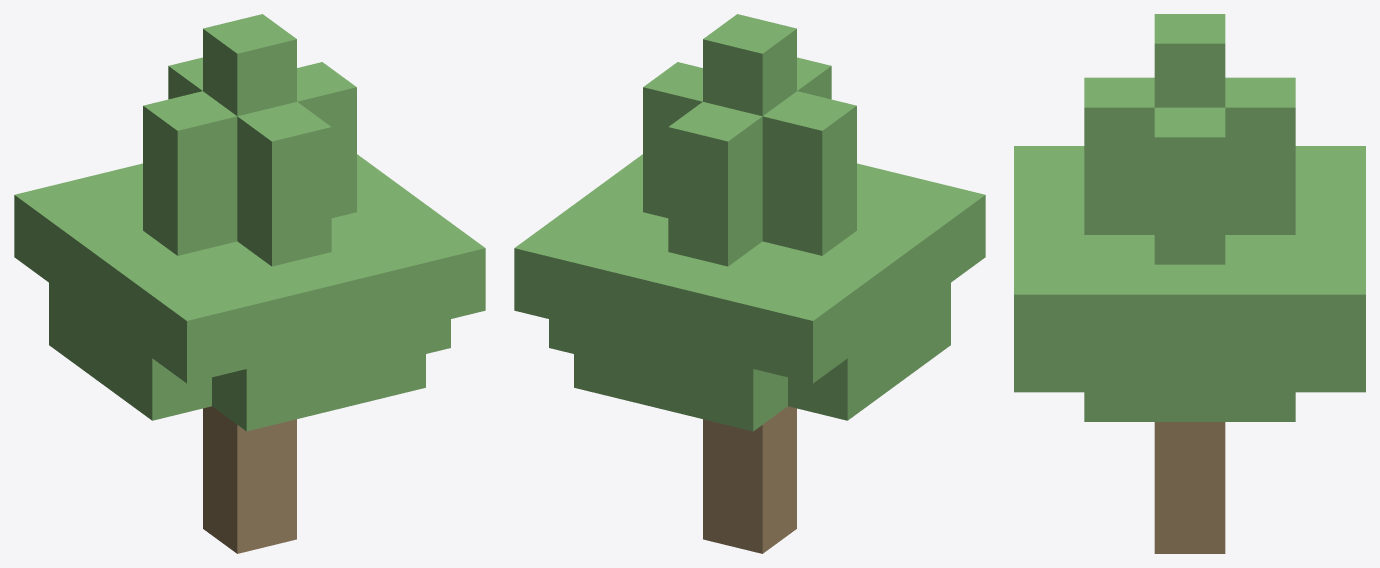
The model's file is Tree_Oak.glb.
3 views of the same model, side by side, from view 1: azimuth 30°, elevation 25°; view 2: azimuth 150°, elevation 25°; view 3: azimuth 270°, elevation 25° (orthographic). The views are drawn at different scales.
Parts seen in each view (by area): view 1: Tree_Oak; view 2: Tree_Oak; view 3: Tree_Oak.
Part boxes in pixels (left/top/right/bottom): Tree_Oak: left=14, top=14, right=485, bottom=553; Tree_Oak: left=514, top=14, right=985, bottom=553; Tree_Oak: left=1014, top=14, right=1365, bottom=553.
Size of the model in its own units: 5 by 8 by 5.
